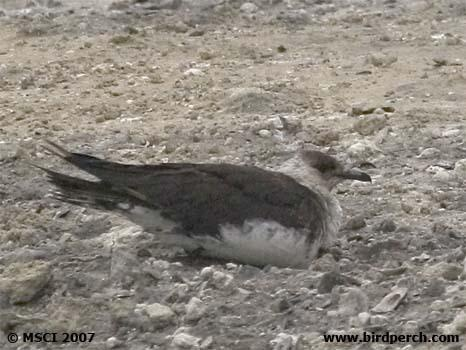bird: (39, 142, 369, 263)
